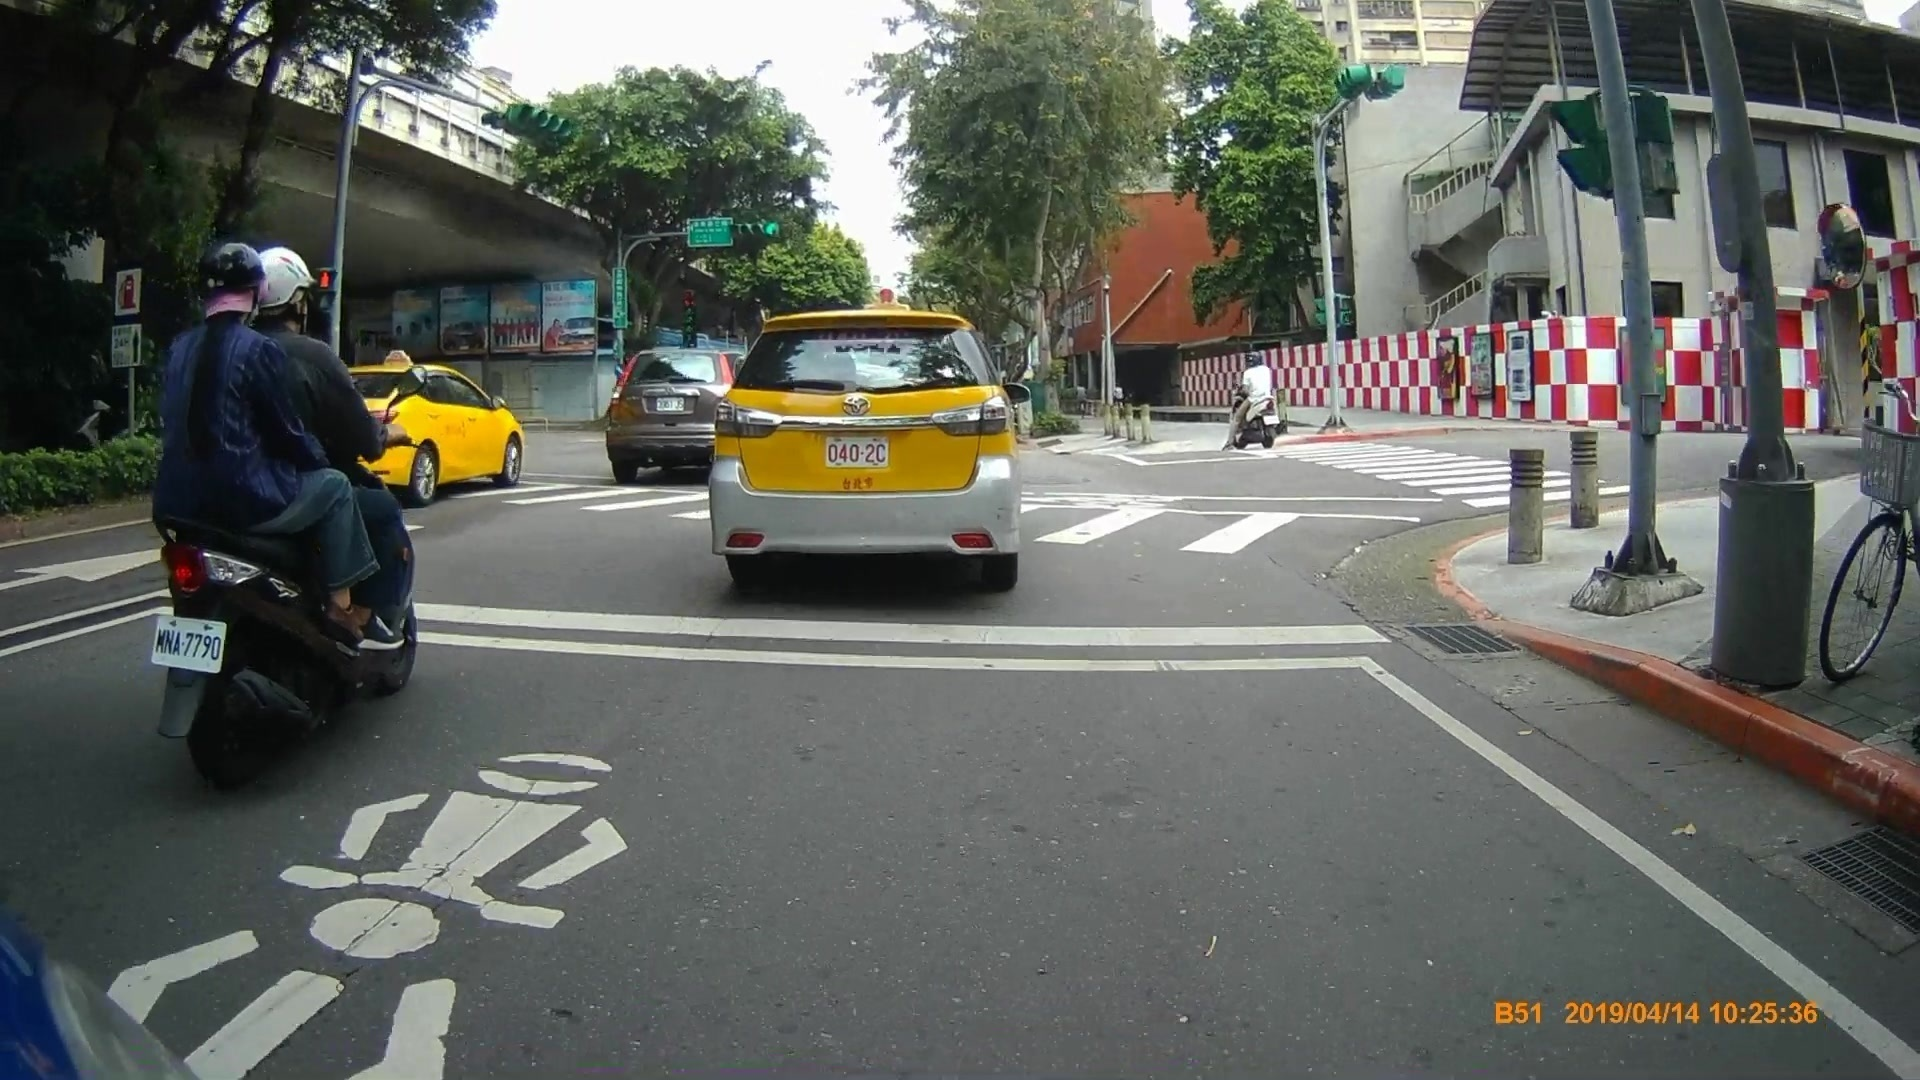License_plate: (152, 611, 228, 676), (825, 434, 890, 470)
